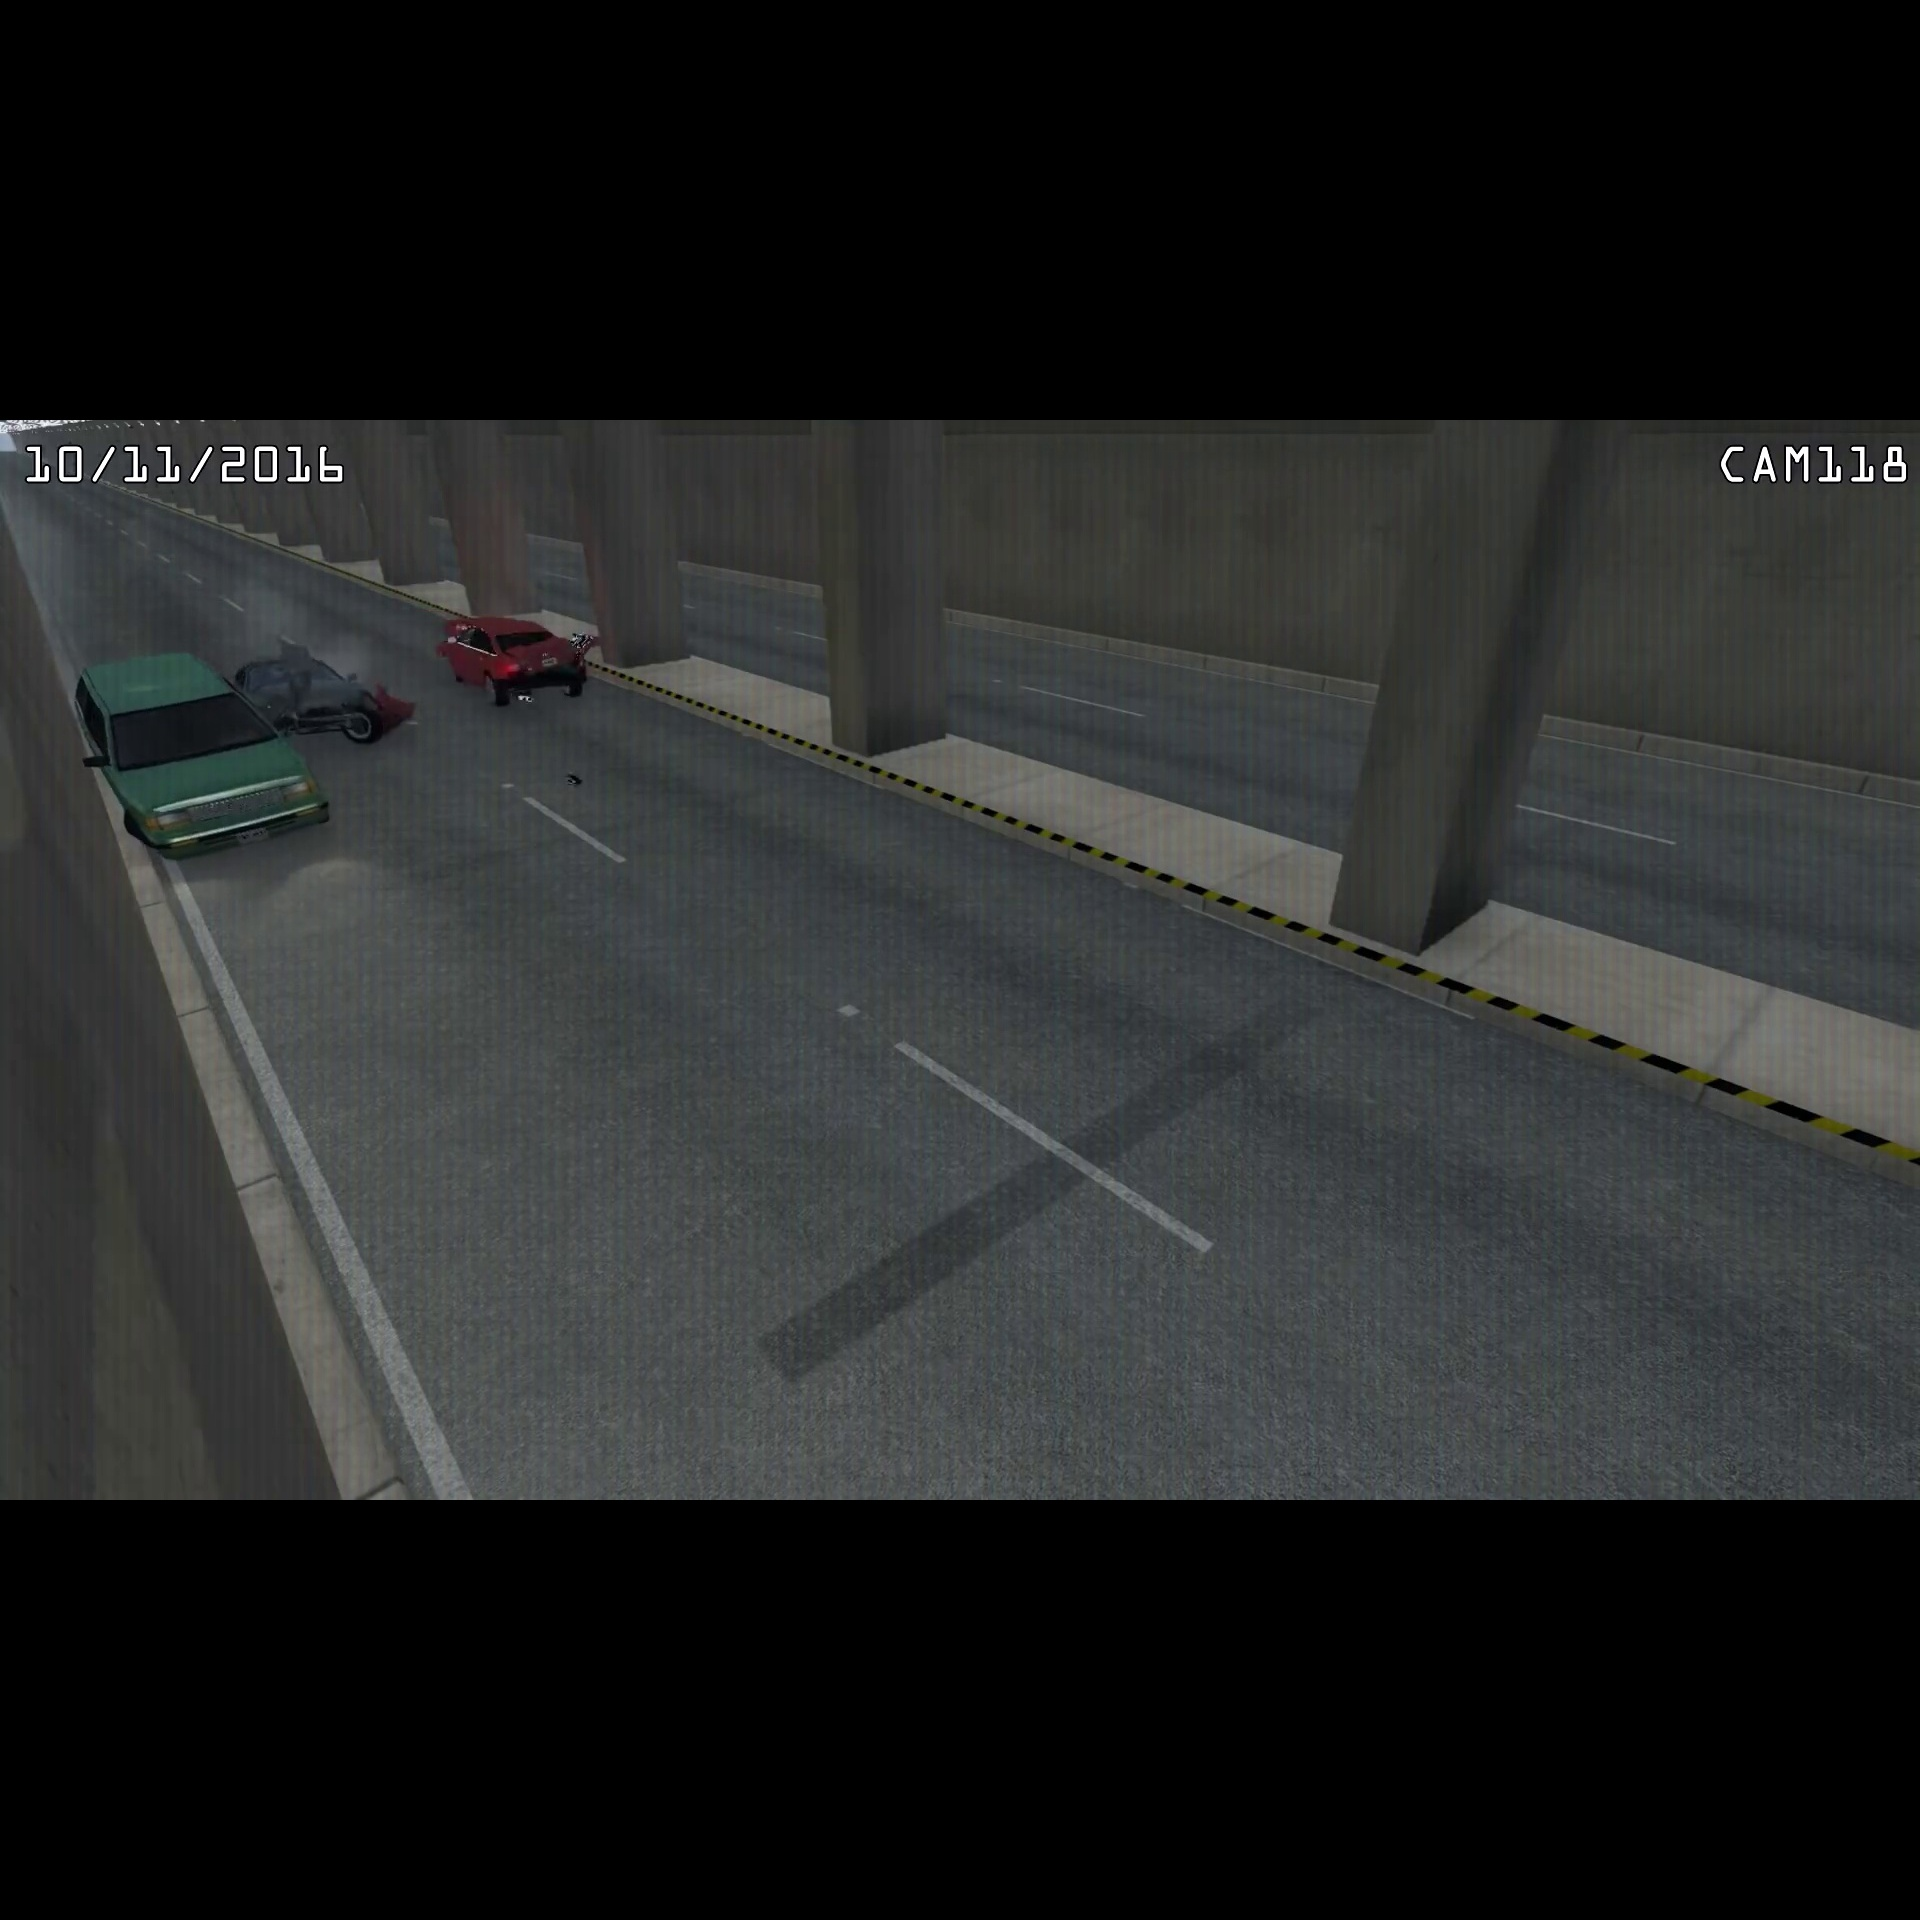vehicle: (69, 642, 336, 872), (222, 647, 389, 760), (429, 610, 610, 707)
